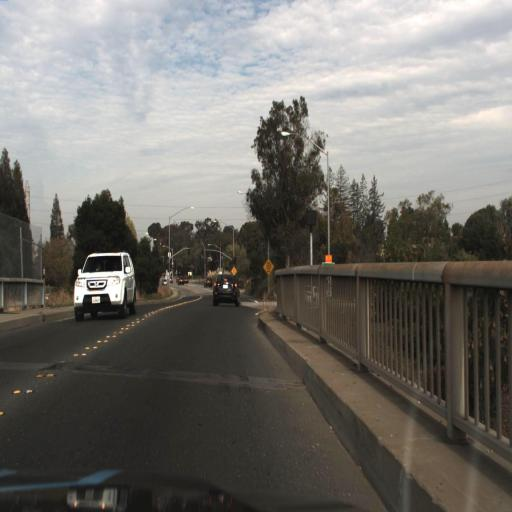car: (67, 241, 142, 326), (70, 248, 138, 315), (211, 271, 243, 311)
